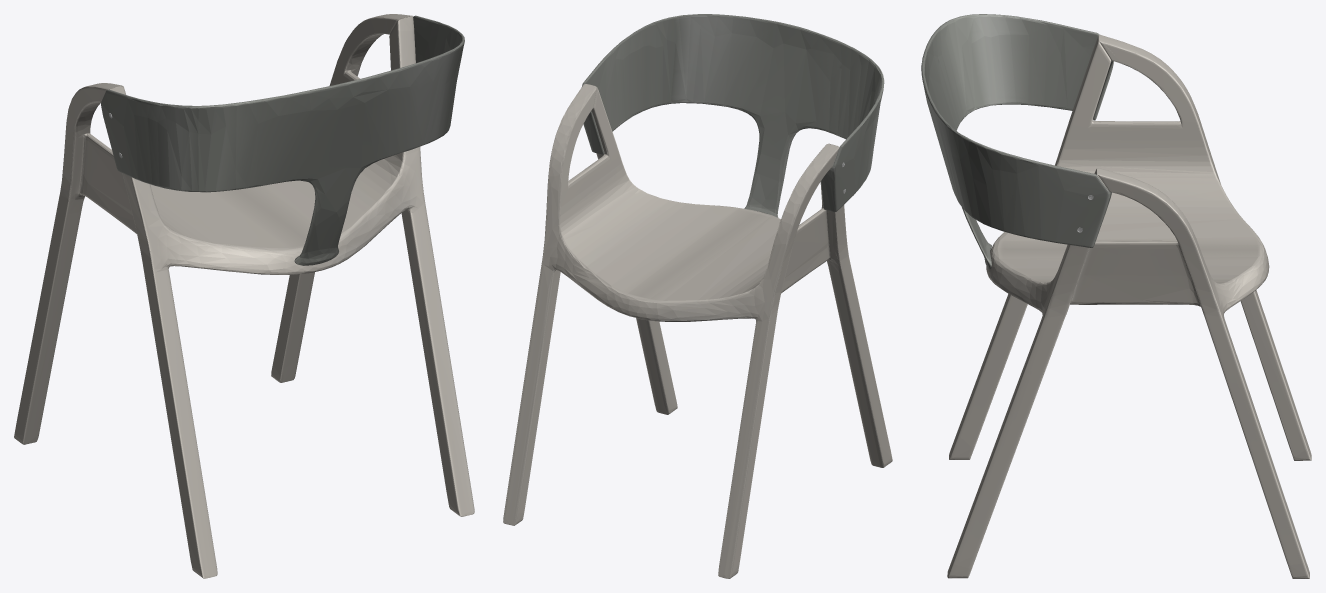
3 renders of one model, left to right at view 1: azimuth 30°, elevation 25°; view 2: azimuth 150°, elevation 25°; view 3: azimuth 270°, elevation 25°, orthographic. The views are drawn at different scales.
Visible parts, largest first — view 1: solid_001_wire; view 2: solid_001_wire; view 3: solid_001_wire.
Boxes of the visible parts, box(x1,y1,x2,y2) form: solid_001_wire: box(14, 14, 474, 578); solid_001_wire: box(503, 14, 892, 578); solid_001_wire: box(921, 14, 1311, 578).
Size of the model in its own units: 0.5245 by 0.7666 by 0.603.
1 material, 1 textured.
